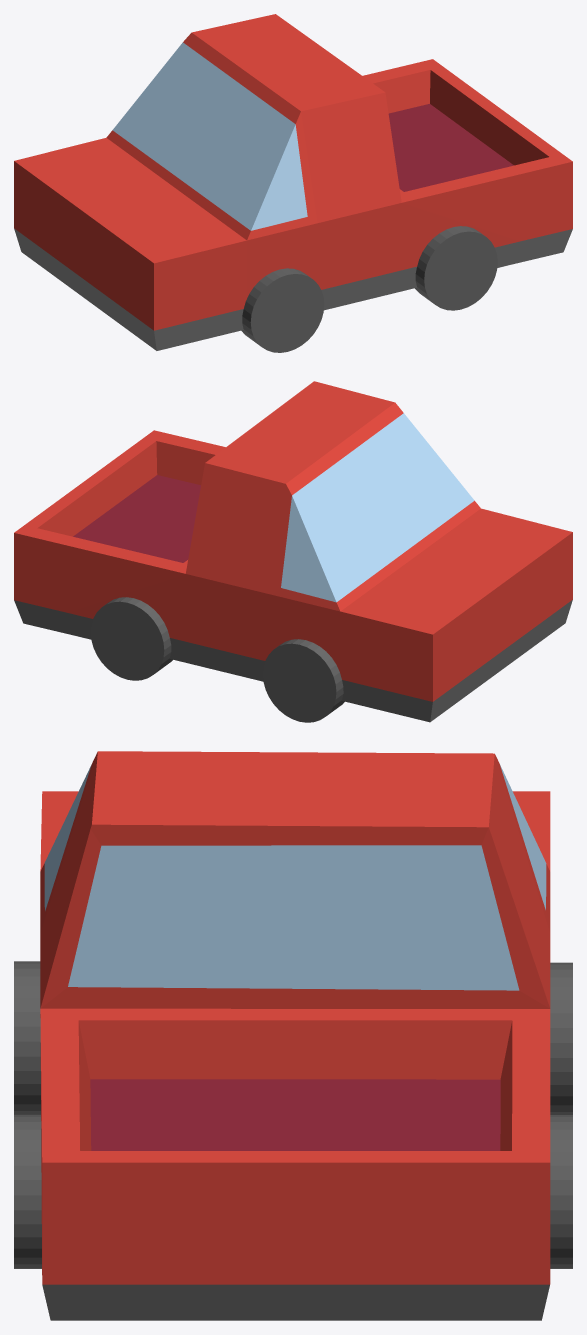
The model's file is truck_red (1).fbx.
The picture shows the model from 3 angles, top to bottom: view 1: azimuth 30°, elevation 25°; view 2: azimuth 150°, elevation 25°; view 3: azimuth 270°, elevation 25°; orthographic projection. The views are drawn at different scales.
Visible parts, largest first — view 1: Cube, Circle; view 2: Cube, Circle; view 3: Cube, Circle.
Part boxes in pixels (box(x1,y1,x2,y2)): Cube: box(14, 14, 572, 350); Circle: box(241, 226, 497, 352); Cube: box(14, 381, 572, 722); Circle: box(90, 597, 344, 722); Cube: box(40, 751, 550, 1320); Circle: box(14, 961, 572, 1268).
Bounding box in the file's own units: 623 × 305 × 397.
